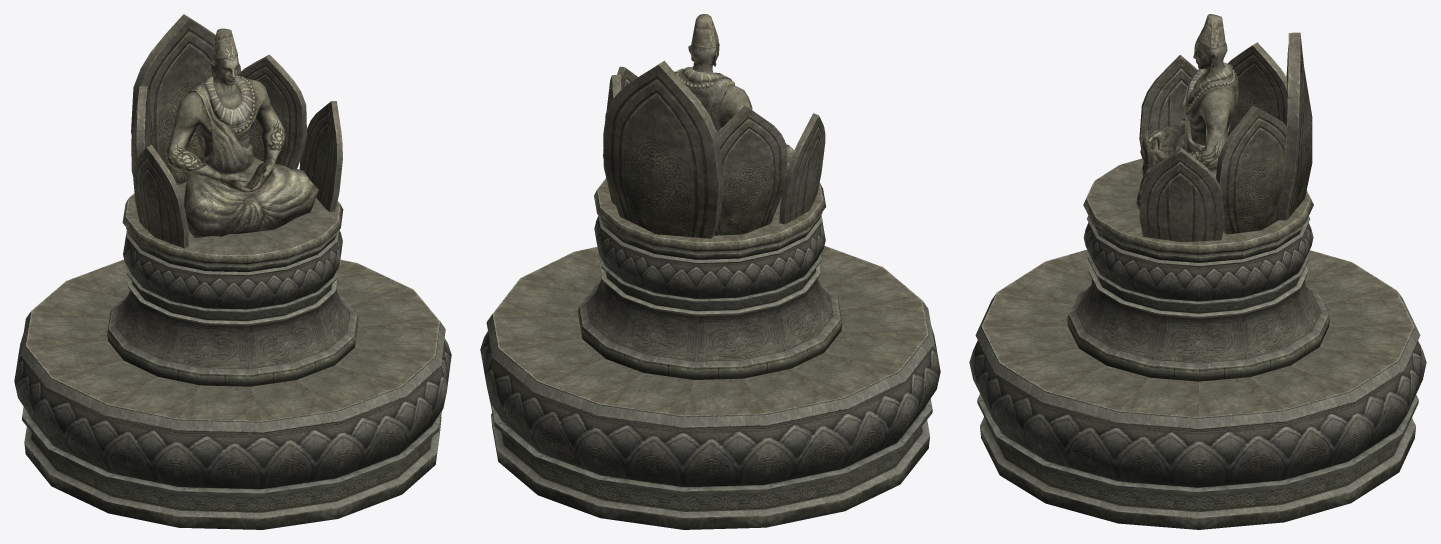
File: dawnmist_statue.glb
3 views of the same model, side by side, from view 1: azimuth 30°, elevation 25°; view 2: azimuth 150°, elevation 25°; view 3: azimuth 270°, elevation 25° (orthographic). The views are drawn at different scales.
Visible parts, largest first — view 1: 01, 00; view 2: 01, 00; view 3: 01, 00.
Boxes of the visible parts, x1,y1,x2,y2 form: 01: [14, 14, 451, 529]; 00: [165, 28, 318, 238]; 01: [480, 60, 940, 529]; 00: [674, 14, 794, 196]; 01: [969, 32, 1426, 529]; 00: [1136, 14, 1239, 210].
Bounding box in the file's own units: 36.89 × 37.58 × 36.89.
2 materials, 2 textured.
